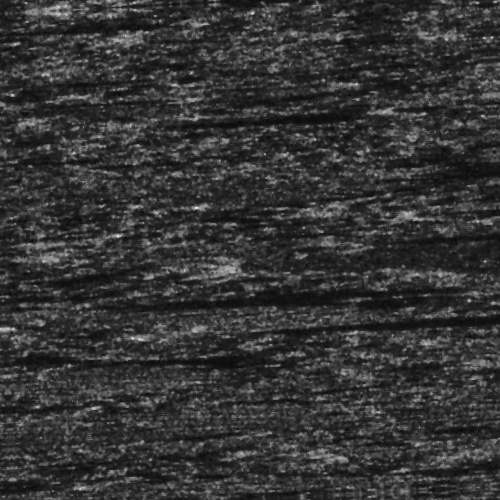object: (374, 285, 500, 310), (349, 111, 432, 128), (0, 224, 95, 237), (201, 11, 232, 28), (158, 91, 211, 96)
shadow: (132, 285, 500, 310), (31, 11, 216, 28), (219, 111, 390, 128), (296, 327, 500, 334), (62, 91, 184, 96), (0, 224, 38, 237), (408, 244, 500, 249)
